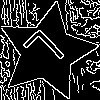L: (21, 27, 74, 79)
